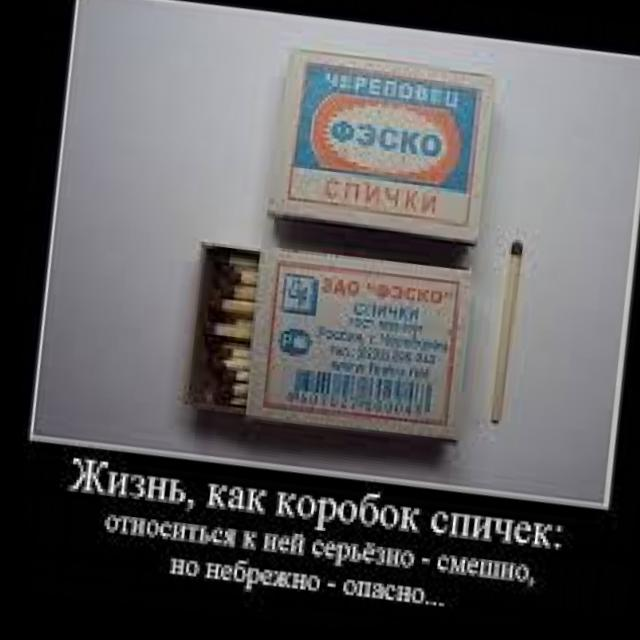match: (226, 236, 487, 463), (255, 38, 509, 267)
